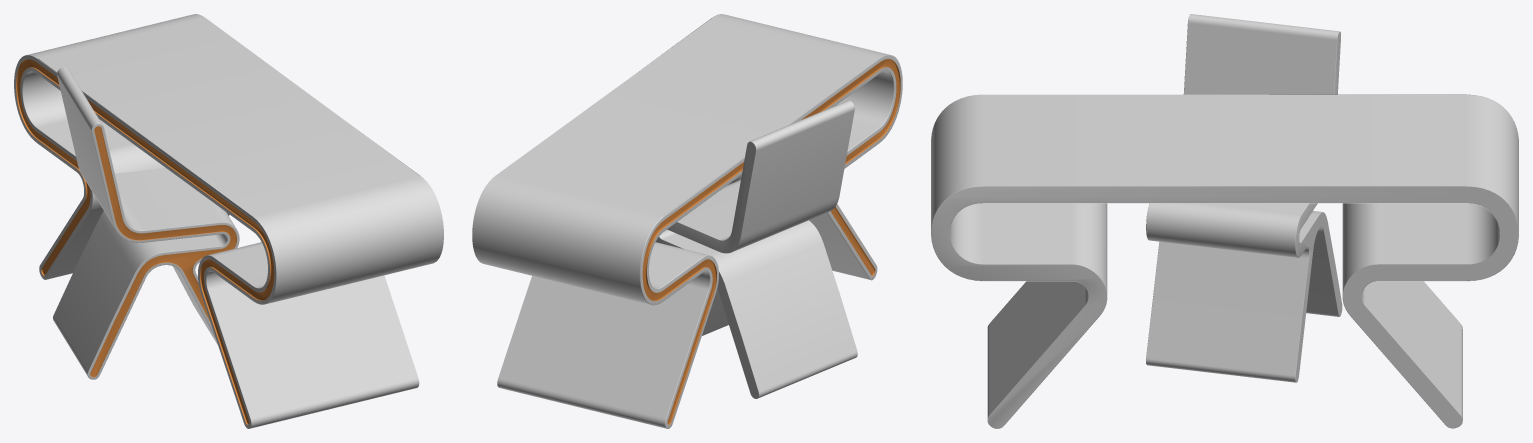
Rendered from omega_chair_and_desk.glb.
3 views of the same model, side by side, from view 1: azimuth 30°, elevation 25°; view 2: azimuth 150°, elevation 25°; view 3: azimuth 270°, elevation 25° (orthographic). The views are drawn at different scales.
Visible parts, largest first — view 1: Omega_Table, Omega_Chair; view 2: Omega_Table, Omega_Chair; view 3: Omega_Table, Omega_Chair.
Boxes of the visible parts, box(x1,y1,x2,y2) form: Omega_Table: box(14, 14, 443, 428); Omega_Chair: box(53, 67, 239, 379); Omega_Table: box(472, 14, 902, 428); Omega_Chair: box(656, 100, 857, 398); Omega_Table: box(931, 94, 1518, 428); Omega_Chair: box(1146, 14, 1342, 382).
Bounding box in the file's own units: 1 × 1.03 × 1.9.
2 materials, 2 textured.
